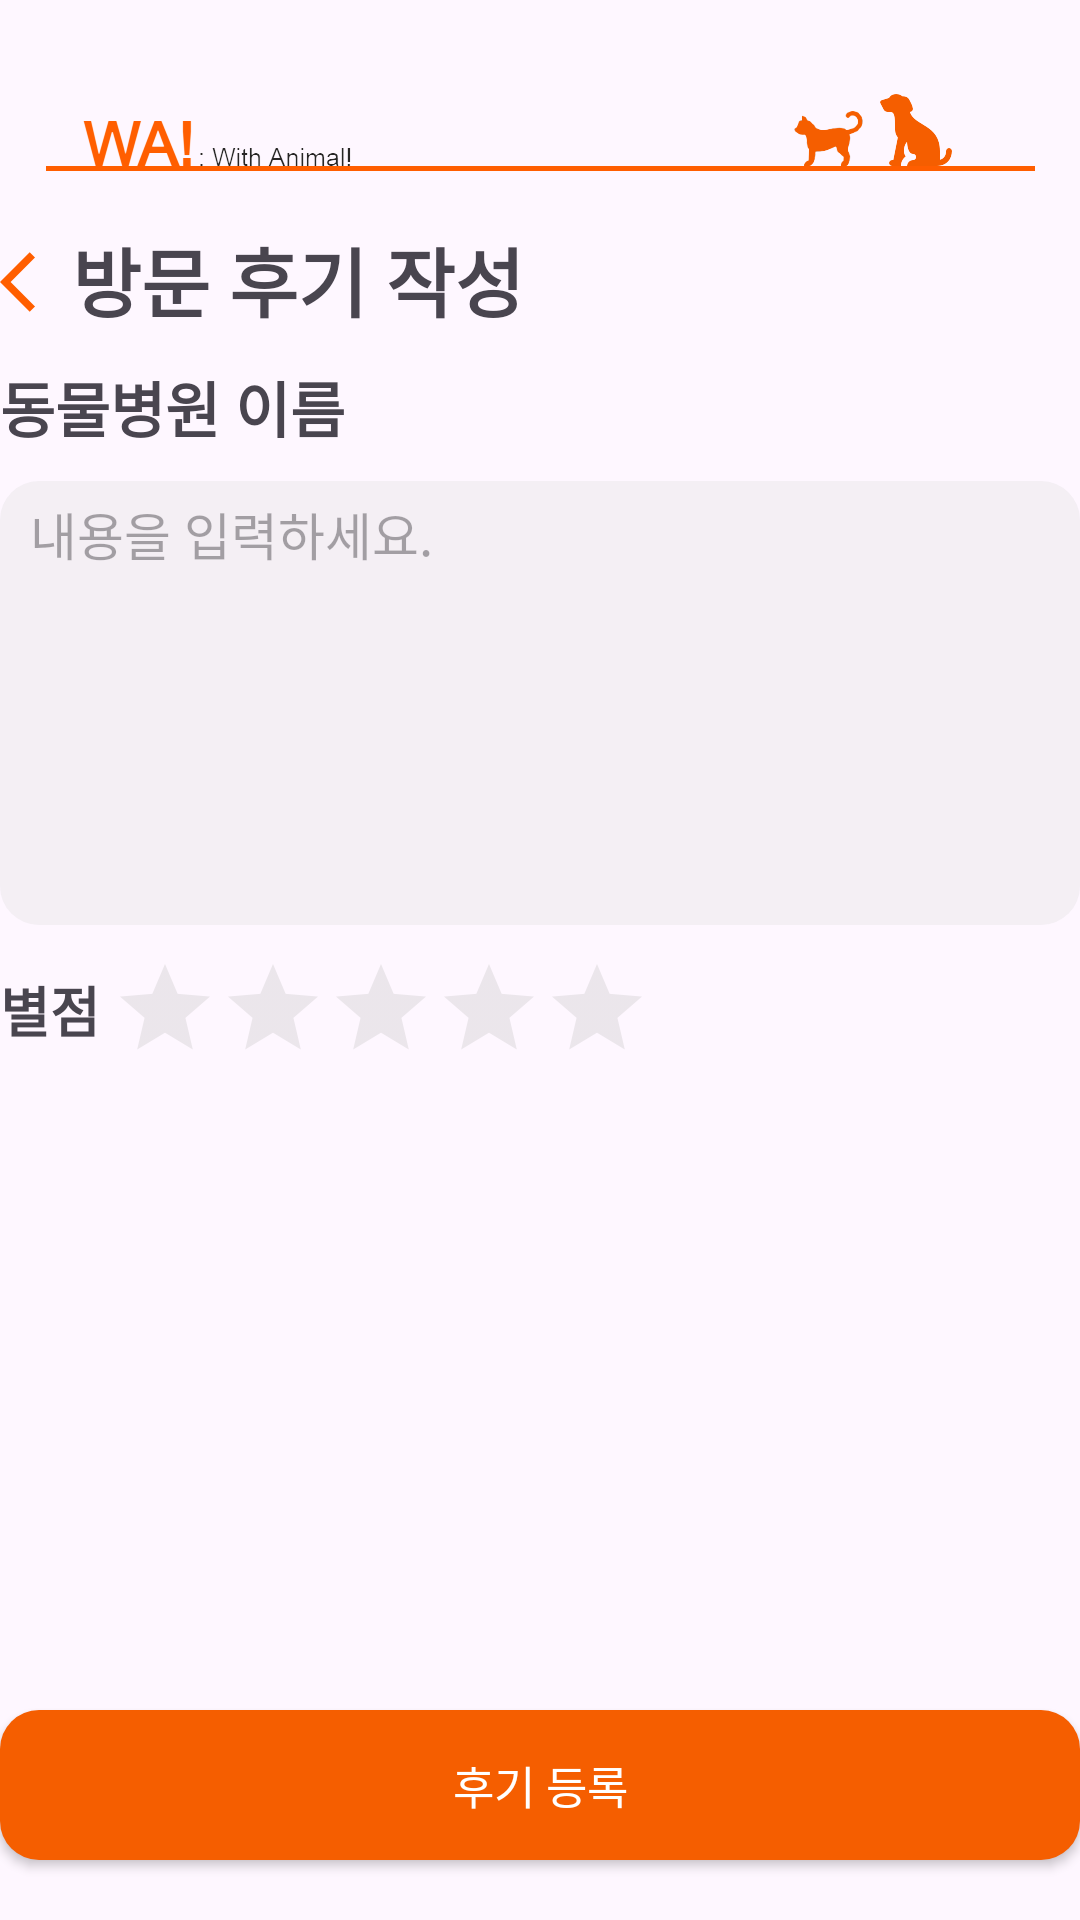

Named icons in this screenshot (1080x1920) and their centers, (x=x, y=y):
arrow back: (x=17, y=282)
